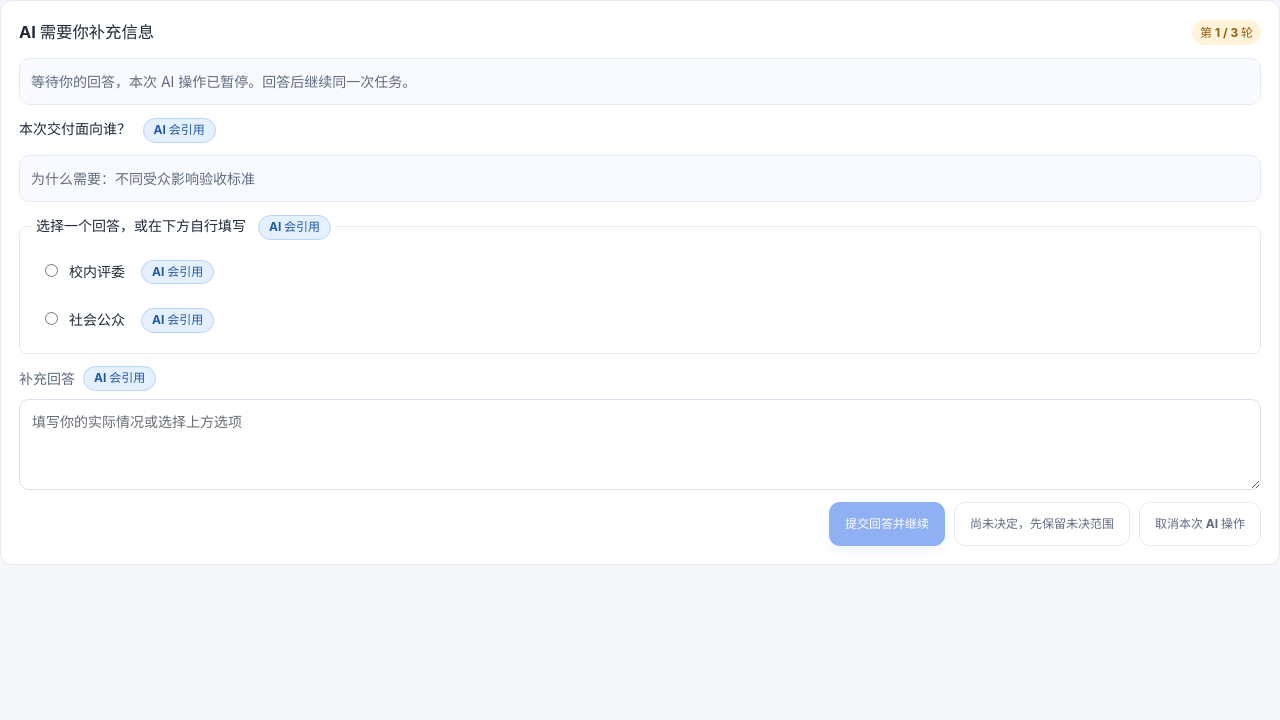
Scenario: AI clarification input › keeps free text after a network failure and guards duplicate clicks during retry
Later steps or results of the test are not shown.
Type "  面向社区志愿者  " into the text box labelled "补充回答" at (640, 445), box [19,399,1261,490]
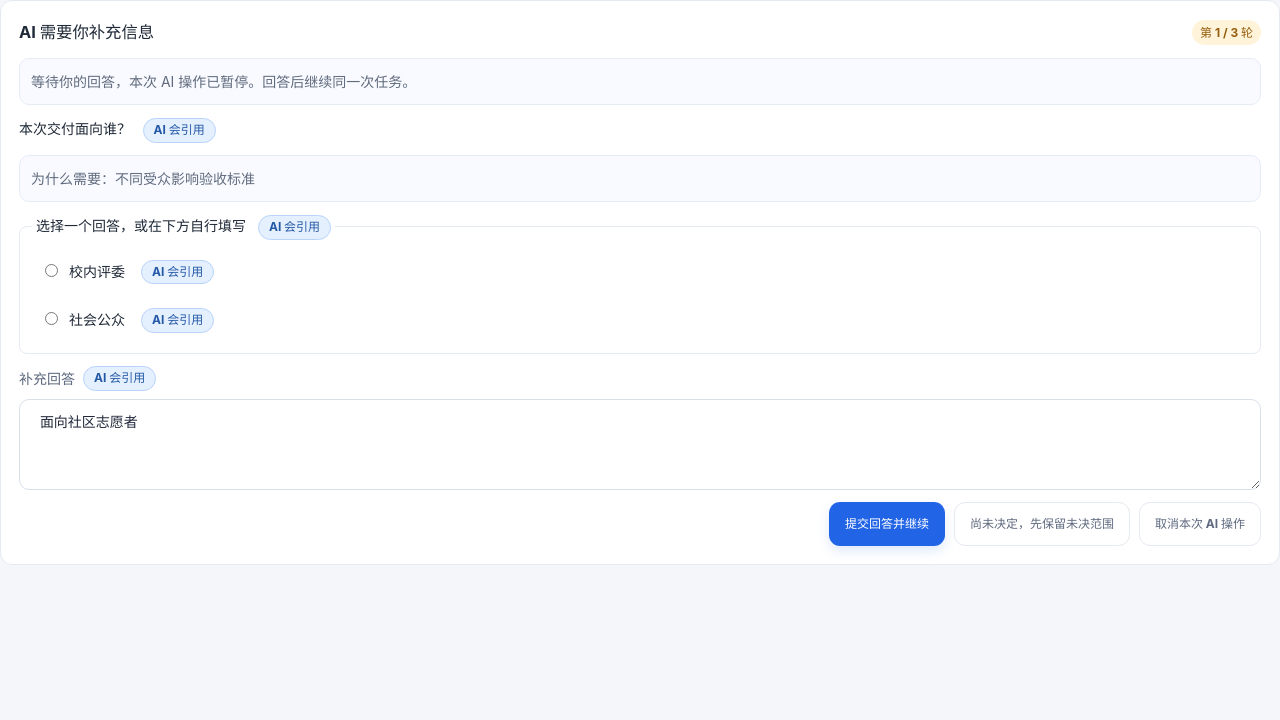
Click the button "提交回答并继续" at (887, 524), box [829,502,945,546]
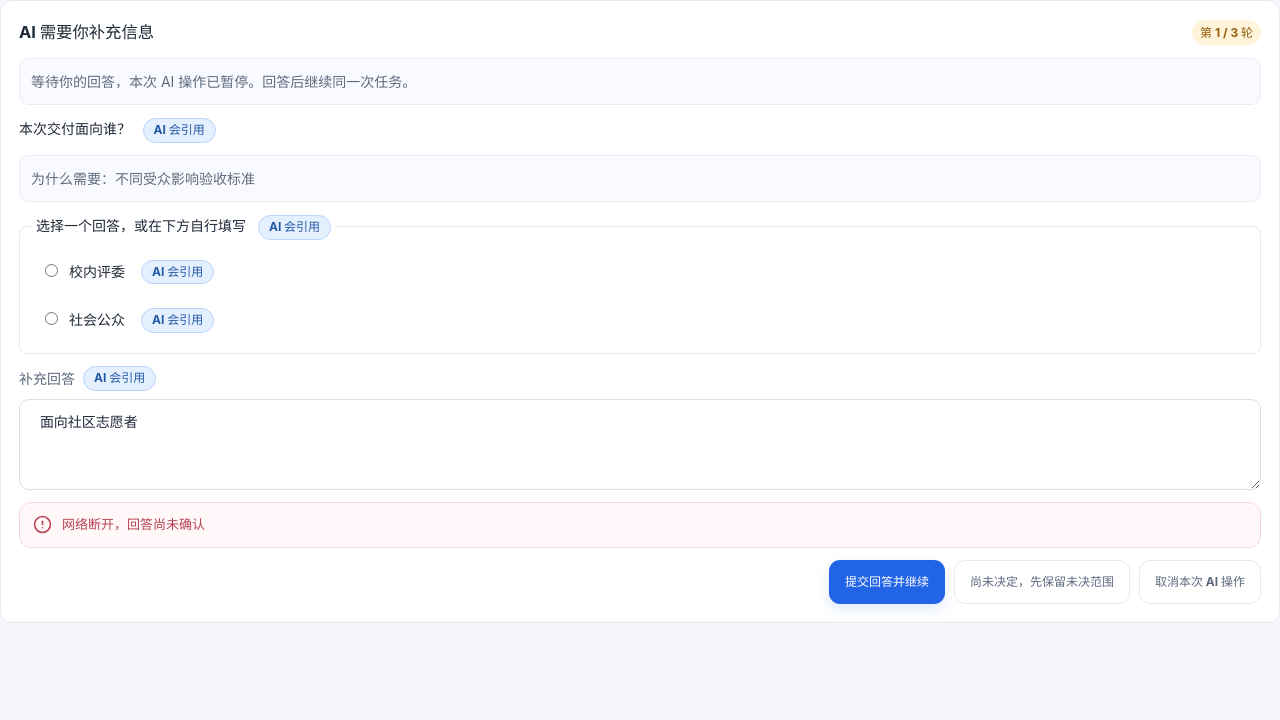
Expected: the text "网络断开，回答尚未确认" is shown, [62,516,205,532]
